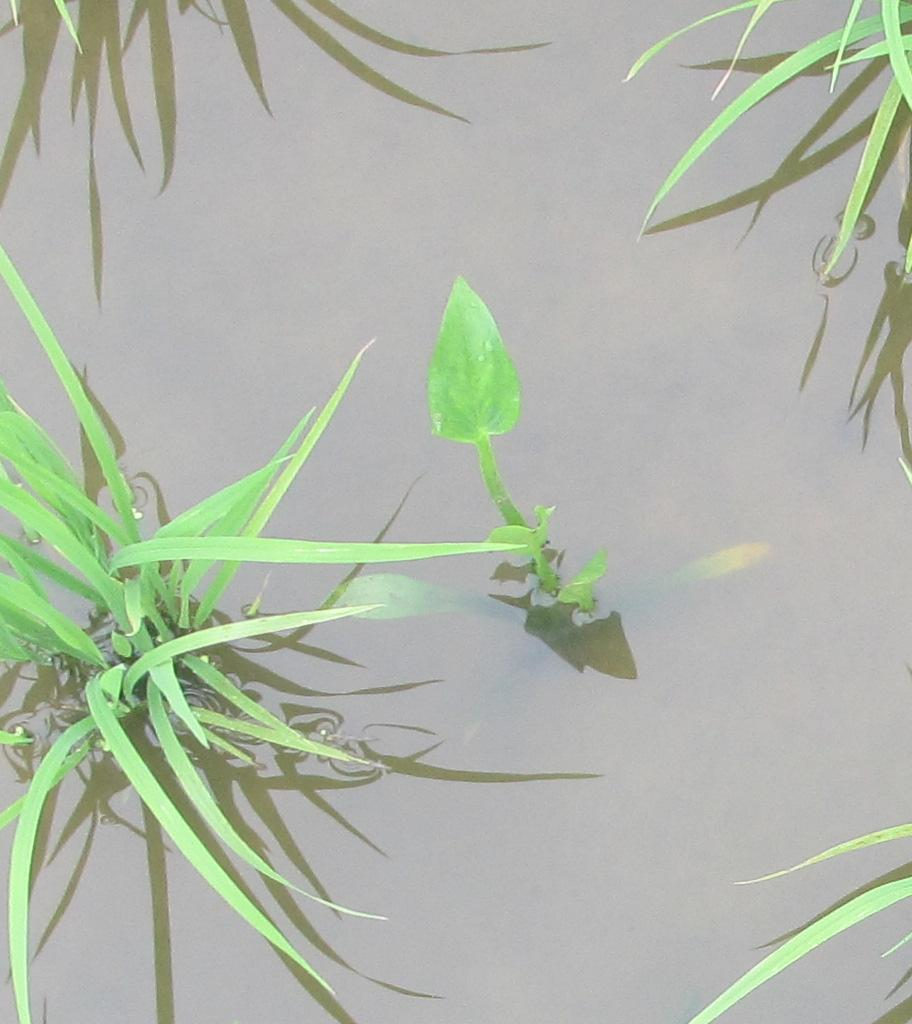Weed: (421, 260, 613, 635)
